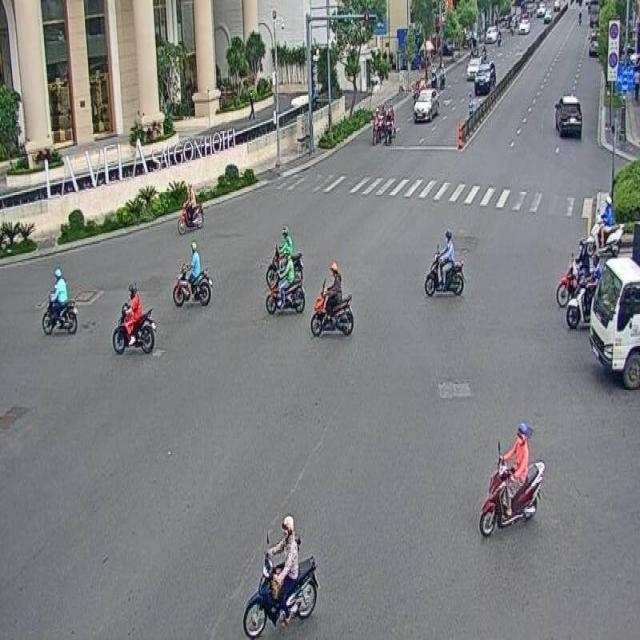motorcycle: (243, 509, 316, 640), (480, 419, 542, 539), (311, 258, 356, 338), (112, 277, 154, 355), (170, 239, 210, 311), (263, 248, 303, 320), (423, 230, 465, 297), (176, 180, 203, 234)
